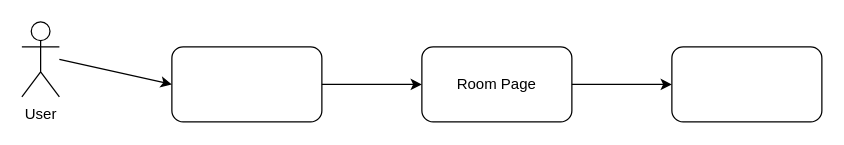
Image size: 844x145. Some labels were removed from this diagram. The shapes that lost their labels are listed below. From the top down, each one's centre as x and y in pixels, then its label:
At (x=246, y=84): "Join Form".
At (x=746, y=84): "Video Chat".
